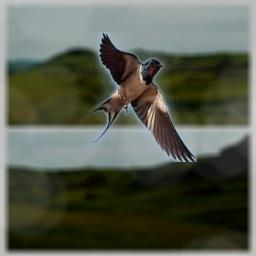Swallow: (80, 32, 197, 162)
